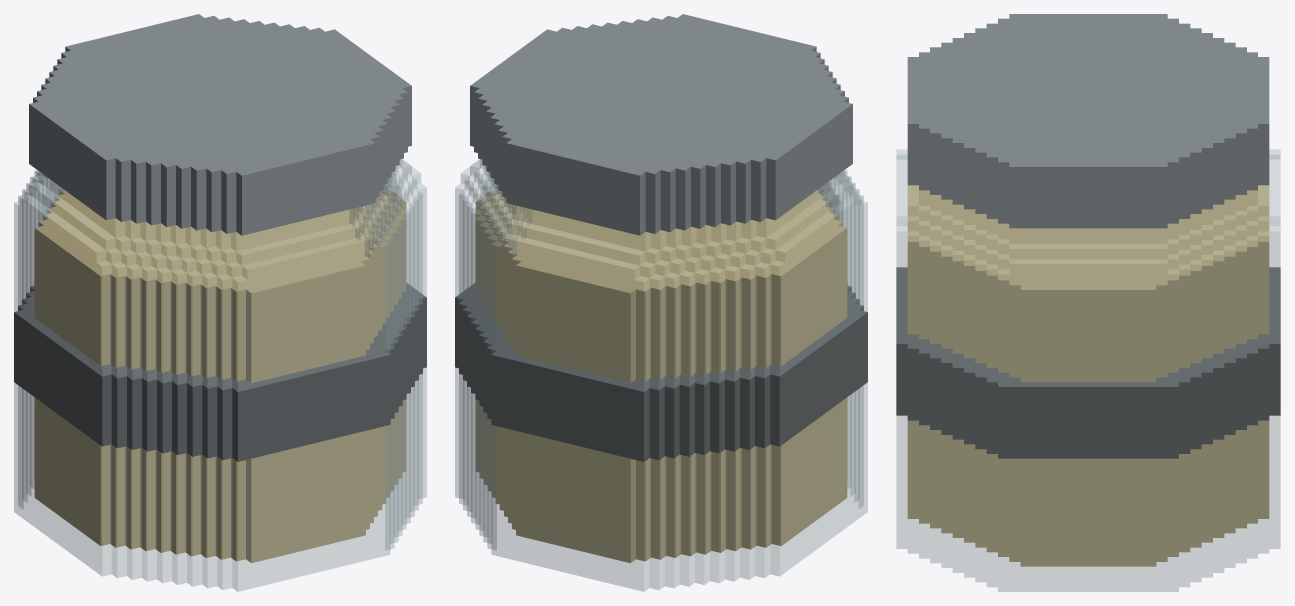
Rendered from cattail_jelly.glb.
3 renders of one model, left to right at view 1: azimuth 30°, elevation 25°; view 2: azimuth 150°, elevation 25°; view 3: azimuth 270°, elevation 25°, orthographic. The views are drawn at different scales.
Parts seen in each view (by area): view 1: cattail_jelly:compound; view 2: cattail_jelly:compound; view 3: cattail_jelly:compound.
Part boxes in pixels (x1,y1,x2,y2): cattail_jelly:compound: (14, 14, 426, 591); cattail_jelly:compound: (455, 14, 867, 591); cattail_jelly:compound: (896, 14, 1280, 591).
Size of the model in its own units: 0.068 by 0.082 by 0.068.
